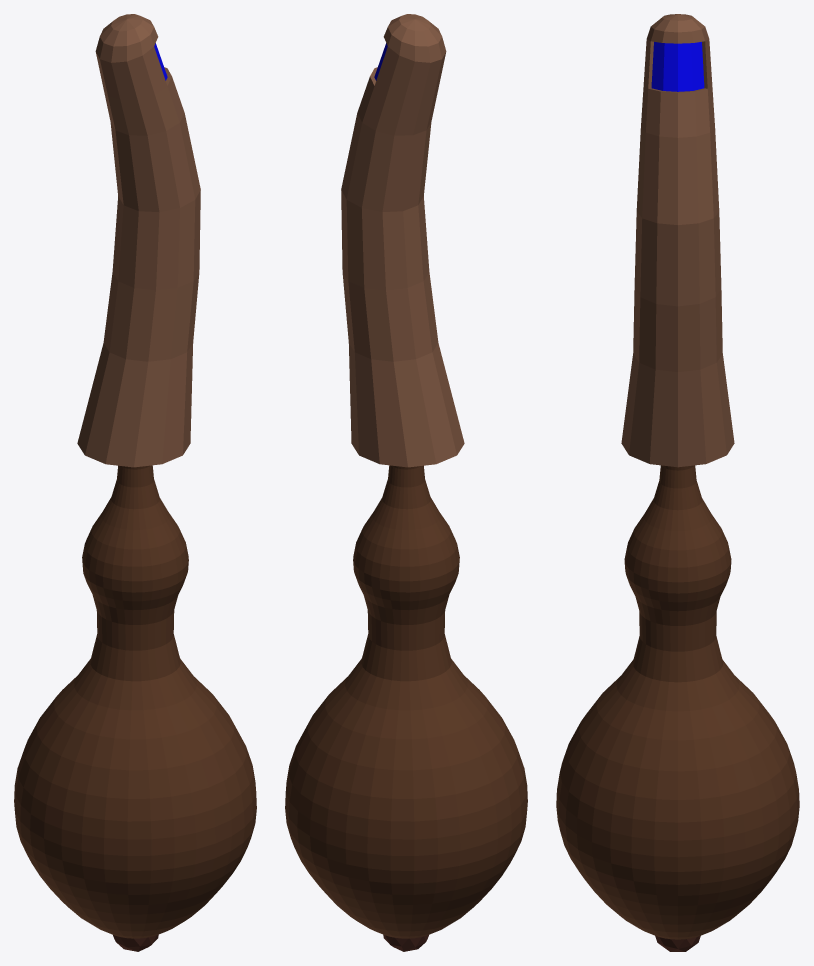
The model's file is Wand 640.glb.
The picture shows the model from 3 angles, left to right: view 1: azimuth 30°, elevation 25°; view 2: azimuth 150°, elevation 25°; view 3: azimuth 270°, elevation 25°; orthographic projection.
Parts seen in each view (by area): view 1: GeneratedWand; view 2: GeneratedWand; view 3: GeneratedWand.
Boxes of the visible parts, <box> form: GeneratedWand: <box>14,14,256,951</box>; GeneratedWand: <box>285,14,527,951</box>; GeneratedWand: <box>556,14,799,951</box>.
Bounding box in the file's own units: 0.123 × 0.5199 × 0.123.
